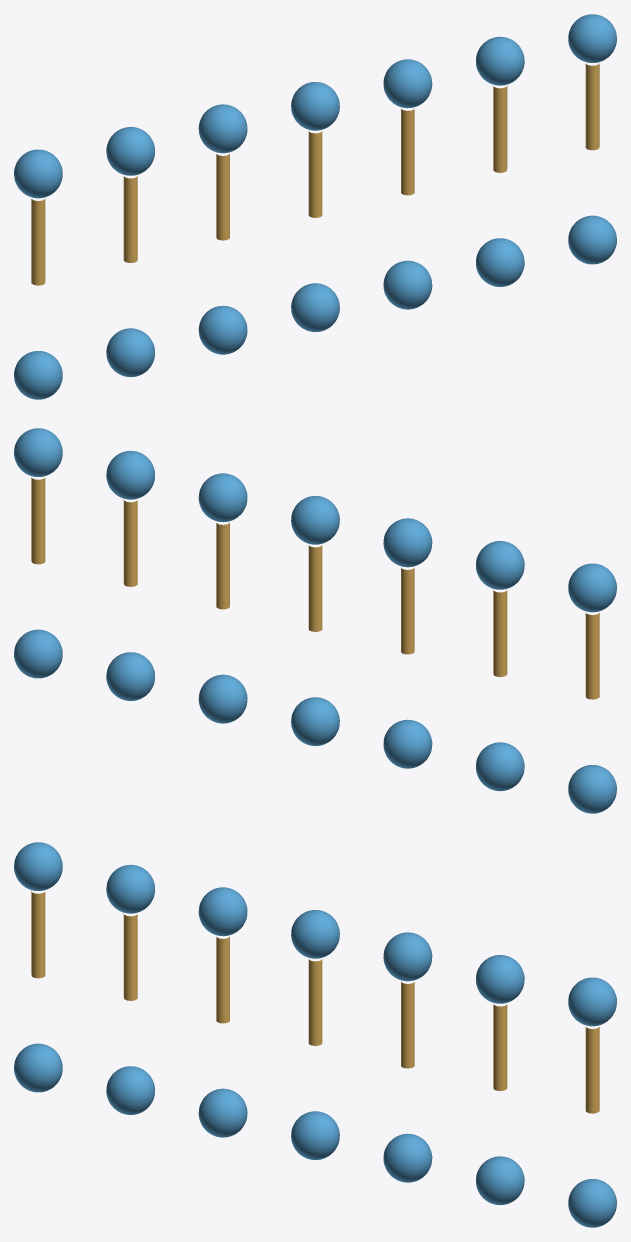
File: biology-biochemistry-lipid.glb
The picture shows the model from 3 angles, top to bottom: view 1: azimuth 30°, elevation 25°; view 2: azimuth 150°, elevation 25°; view 3: azimuth 330°, elevation 25°; orthographic projection.
Visible parts, largest first — view 1: phospholipid-head-top-0, phospholipid-head-bottom-6, phospholipid-head-bottom-2, phospholipid-head-top-4, phospholipid-head-top-2, phospholipid-head-bottom-4, phospholipid-head-top-1, phospholipid-head-bottom-5, phospholipid-head-bottom-1, phospholipid-head-top-5, phospholipid-head-bottom-0, phospholipid-head-top-6 (+9 smaller); view 2: phospholipid-head-top-0, phospholipid-head-bottom-6, phospholipid-head-bottom-2, phospholipid-head-top-4, phospholipid-head-top-2, phospholipid-head-bottom-4, phospholipid-head-top-1, phospholipid-head-bottom-5, phospholipid-head-bottom-1, phospholipid-head-top-5, phospholipid-head-bottom-0, phospholipid-head-top-6 (+9 smaller); view 3: phospholipid-head-bottom-0, phospholipid-head-top-6, phospholipid-head-top-2, phospholipid-head-bottom-4, phospholipid-head-bottom-2, phospholipid-head-top-4, phospholipid-head-bottom-1, phospholipid-head-top-5, phospholipid-head-top-1, phospholipid-head-bottom-5, phospholipid-head-top-0, phospholipid-head-bottom-6 (+9 smaller).
Part boxes in pixels (x1,y1,x2,y2): phospholipid-head-top-0: (14, 149, 62, 198); phospholipid-head-bottom-6: (568, 215, 616, 264); phospholipid-head-bottom-2: (198, 305, 247, 354); phospholipid-head-top-4: (383, 59, 432, 108); phospholipid-head-top-2: (198, 104, 247, 153); phospholipid-head-bottom-4: (383, 260, 432, 309); phospholipid-head-top-1: (106, 127, 154, 175); phospholipid-head-bottom-5: (476, 238, 524, 286); phospholipid-head-bottom-1: (106, 328, 154, 377); phospholipid-head-top-5: (476, 36, 524, 85); phospholipid-head-bottom-0: (14, 351, 62, 399); phospholipid-head-top-6: (568, 14, 616, 62); phospholipid-head-top-0: (568, 563, 616, 612); phospholipid-head-bottom-6: (14, 629, 62, 678); phospholipid-head-bottom-2: (383, 719, 432, 768); phospholipid-head-top-4: (198, 473, 247, 522); phospholipid-head-top-2: (383, 518, 432, 567); phospholipid-head-bottom-4: (198, 674, 247, 723); phospholipid-head-top-1: (476, 541, 524, 589); phospholipid-head-bottom-5: (106, 652, 154, 700); phospholipid-head-bottom-1: (476, 742, 524, 791); phospholipid-head-top-5: (106, 450, 154, 499); phospholipid-head-bottom-0: (568, 765, 616, 813); phospholipid-head-top-6: (14, 428, 62, 476); phospholipid-head-bottom-0: (14, 1043, 62, 1092); phospholipid-head-top-6: (568, 977, 616, 1026); phospholipid-head-top-2: (198, 887, 247, 936); phospholipid-head-bottom-4: (383, 1133, 432, 1182); phospholipid-head-bottom-2: (198, 1088, 247, 1137); phospholipid-head-top-4: (383, 932, 432, 981); phospholipid-head-bottom-1: (106, 1066, 154, 1114); phospholipid-head-top-5: (476, 955, 524, 1003); phospholipid-head-top-1: (106, 864, 154, 913); phospholipid-head-bottom-5: (476, 1156, 524, 1205); phospholipid-head-top-0: (14, 842, 62, 890); phospholipid-head-bottom-6: (568, 1179, 616, 1227).
Size of what is drawn, in the model's own units: 1.55 by 0.61 by 0.11.
